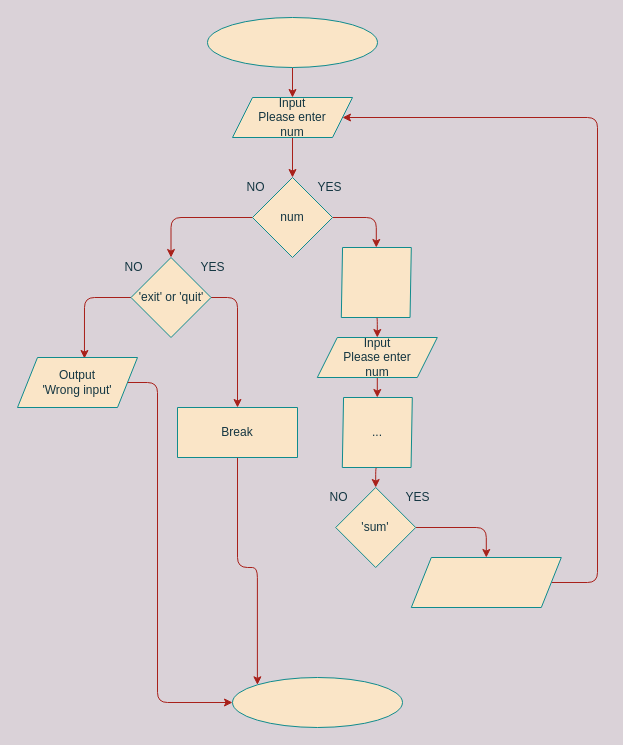
The diagram is 623 pixels wide and 745 high, and some of its shapes have lost their labels. The centre of each missing label's shape, as x and y in pixels:
"Beginning" belongs at point (292, 42).
"END" belongs at point (317, 702).
"num + num" belongs at point (375, 282).
"Output num + num =..." belongs at point (485, 582).
